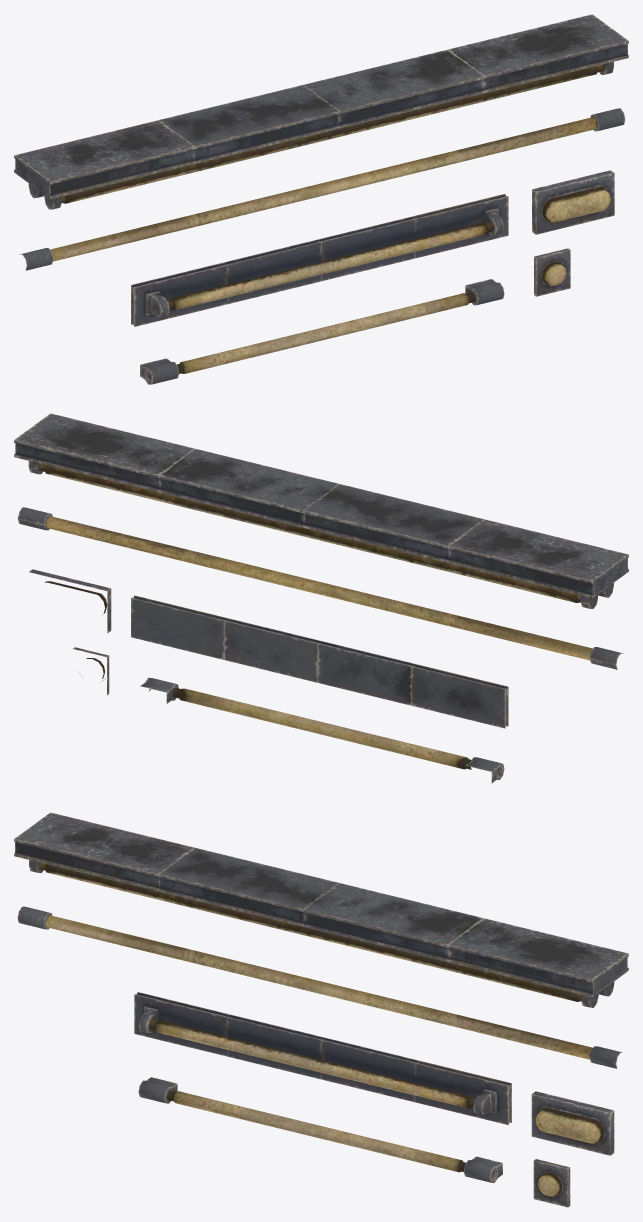
The model's file is lights.glb.
3 renders of one model, top to bottom at view 1: azimuth 30°, elevation 25°; view 2: azimuth 150°, elevation 25°; view 3: azimuth 330°, elevation 25°, orthographic.
Visible parts, largest first — view 1: Cube.003, Cube.013, Cube.007, Cube.014, Cube.024, Cube.004; view 2: Cube.003, Cube.013, Cube.007, Cube.014, Cube.024; view 3: Cube.003, Cube.013, Cube.007, Cube.014, Cube.024, Cube.004.
Part boxes in pixels (bbox=[...]): Cube.003: bbox=[14, 14, 628, 209]; Cube.013: bbox=[131, 194, 508, 326]; Cube.007: bbox=[19, 108, 625, 270]; Cube.014: bbox=[140, 279, 504, 384]; Cube.024: bbox=[532, 170, 614, 234]; Cube.004: bbox=[534, 248, 570, 296]; Cube.003: bbox=[14, 413, 628, 608]; Cube.013: bbox=[131, 595, 508, 728]; Cube.007: bbox=[18, 507, 623, 669]; Cube.014: bbox=[140, 677, 504, 783]; Cube.024: bbox=[29, 569, 111, 633]; Cube.003: bbox=[14, 812, 628, 1007]; Cube.013: bbox=[134, 992, 511, 1124]; Cube.007: bbox=[17, 906, 622, 1068]; Cube.014: bbox=[138, 1077, 502, 1182]; Cube.024: bbox=[531, 1091, 614, 1155]; Cube.004: bbox=[533, 1159, 570, 1207].
Size of the model in its own units: 3.57 by 1.42 by 0.3773.
1 material, 1 textured.
